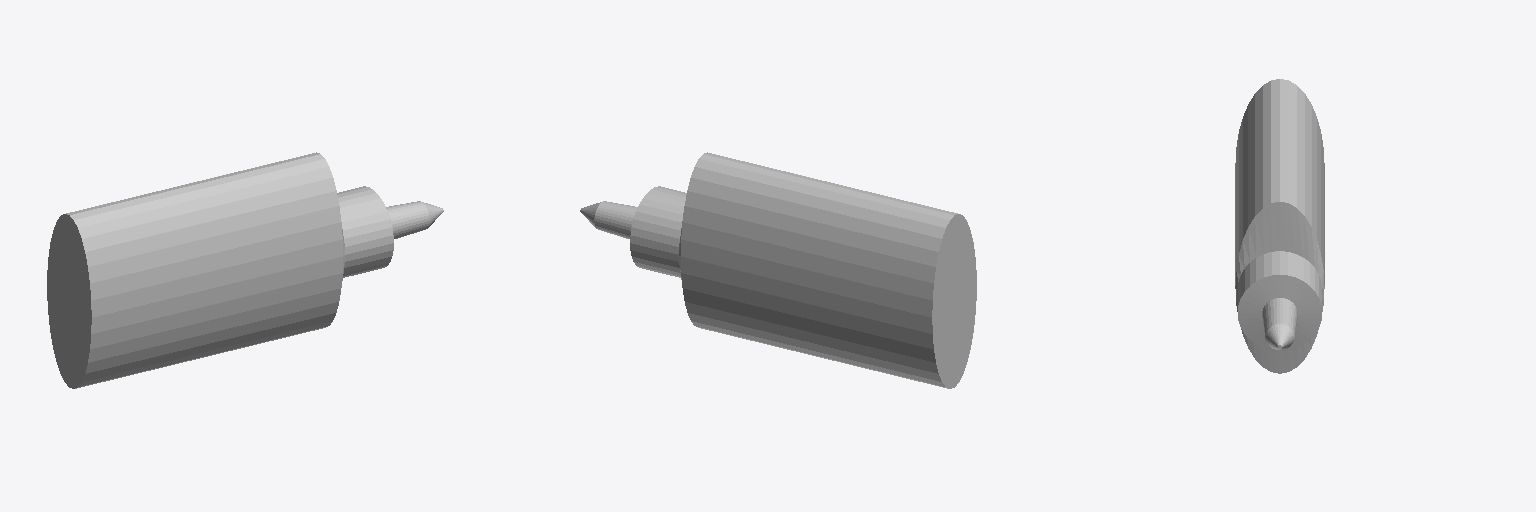
The model's file is elmers_washable_no_run_school_glue.obj.
The picture shows the model from 3 angles: view 1: azimuth 30°, elevation 25°; view 2: azimuth 150°, elevation 25°; view 3: azimuth 270°, elevation 25°; orthographic projection.
Bounding box in the file's own units: 0.145 × 0.064 × 0.03.